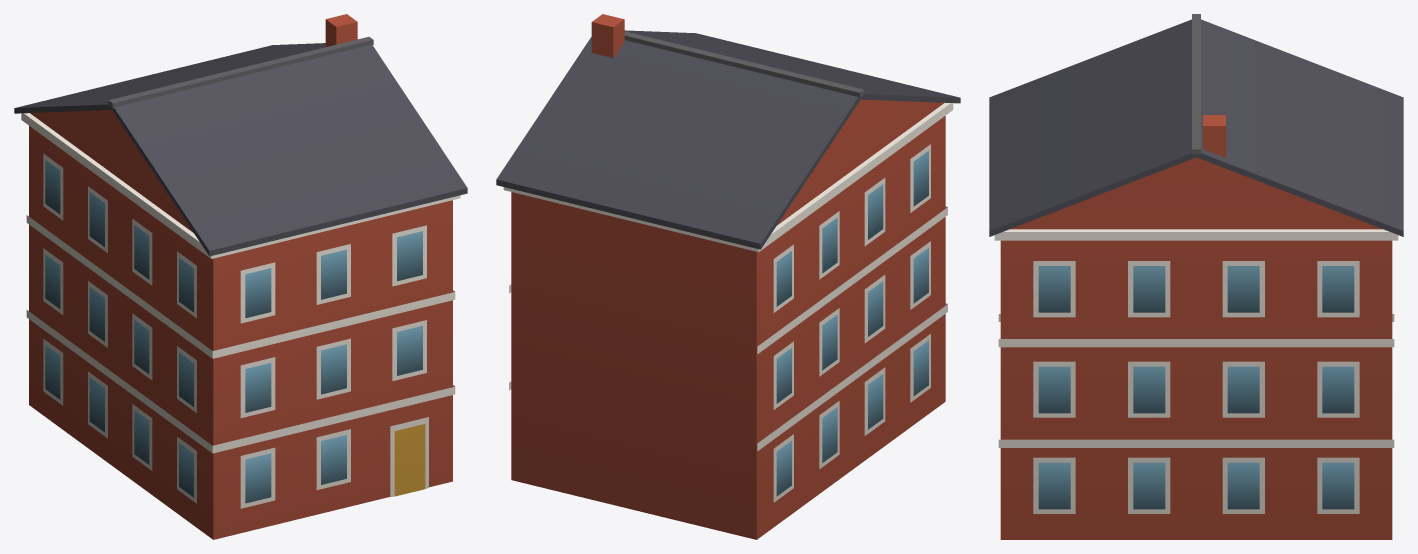
File: beacon_n0_far.glb
3 views of the same model, side by side, from view 1: azimuth 30°, elevation 25°; view 2: azimuth 150°, elevation 25°; view 3: azimuth 270°, elevation 25° (orthographic). The views are drawn at different scales.
Visible parts, largest first — view 1: beacon_n0_far; view 2: beacon_n0_far; view 3: beacon_n0_far.
Boxes of the visible parts, x1,y1,x2,y2 form: beacon_n0_far: (14, 14, 467, 539); beacon_n0_far: (496, 14, 960, 539); beacon_n0_far: (989, 14, 1403, 539).
Size of the model in its own units: 9.8 by 14 by 12.7.
Materials: 1 (1 with a texture image).
